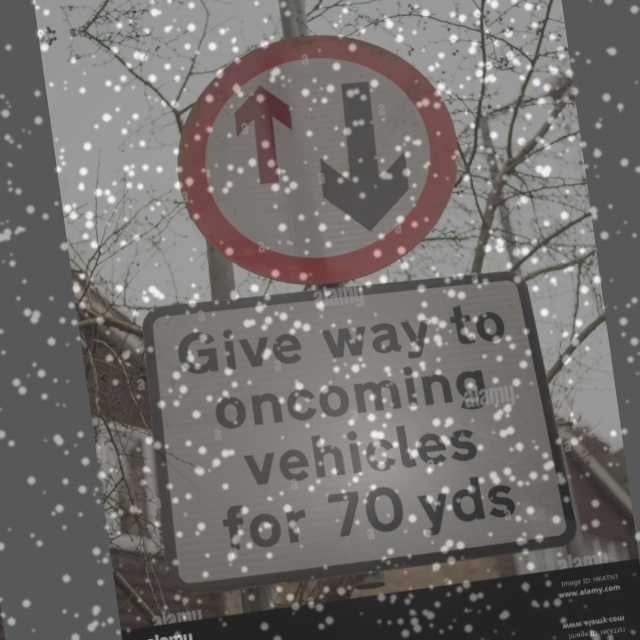Priority_for_Oncoming_Traffic: (163, 15, 475, 299)
